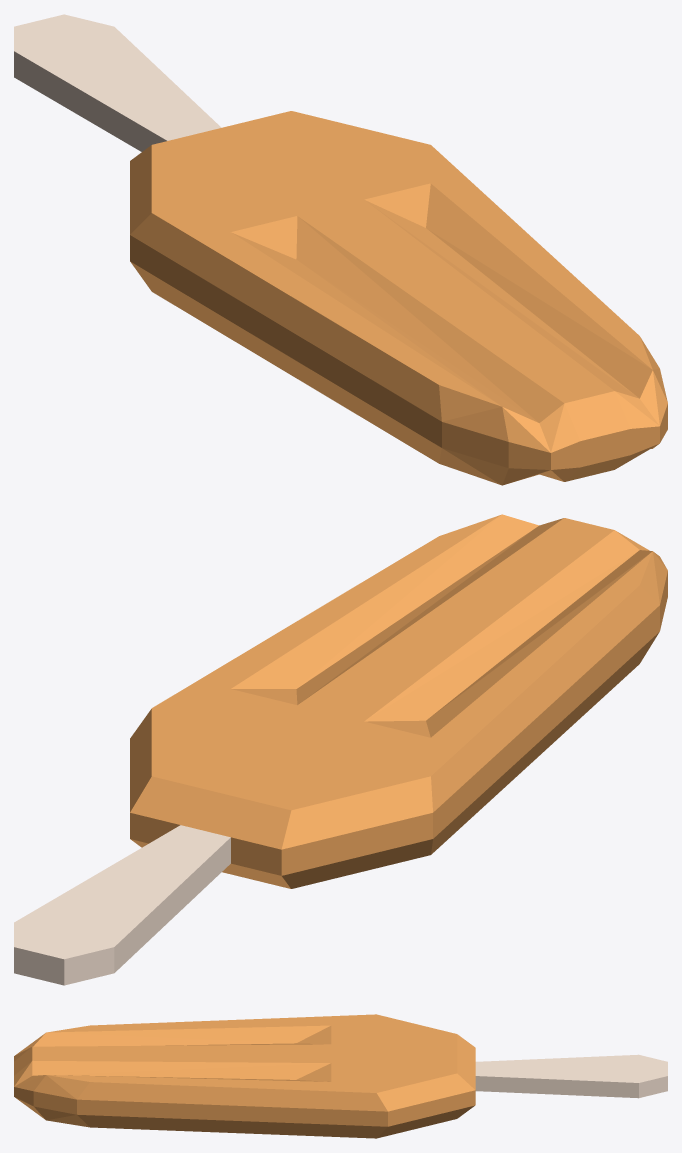
The model's file is Popsicle.fbx.
3 views of the same model, one above another, from view 1: azimuth 30°, elevation 25°; view 2: azimuth 150°, elevation 25°; view 3: azimuth 270°, elevation 25° (orthographic). The views are drawn at different scales.
Parts seen in each view (by area): view 1: Popsicle; view 2: Popsicle; view 3: Popsicle.
Boxes of the visible parts, x1,y1,x2,y2 form: Popsicle: (14,14,667,485); Popsicle: (14,514,667,985); Popsicle: (14,1014,667,1138).
Size of the model in its own units: 0.0604 by 0.015 by 0.1954.
